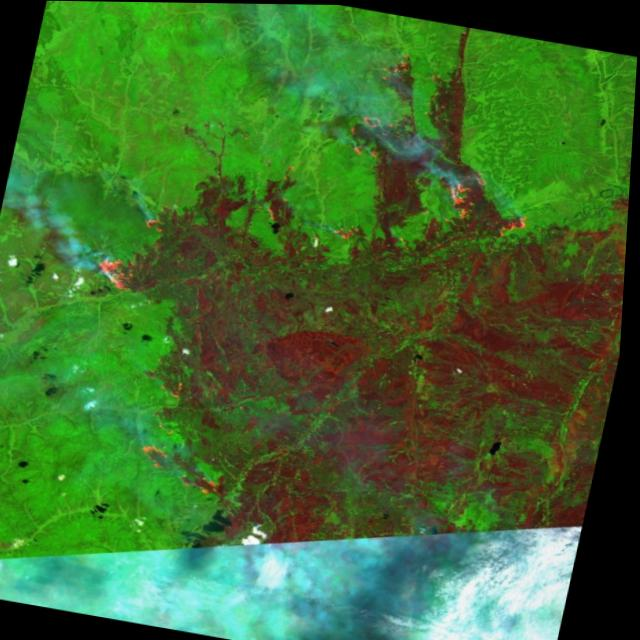fire: (430, 159, 548, 248), (131, 440, 244, 506), (341, 103, 414, 169), (84, 247, 160, 310), (371, 45, 434, 90), (133, 209, 186, 250), (324, 211, 375, 249), (156, 371, 196, 404)
